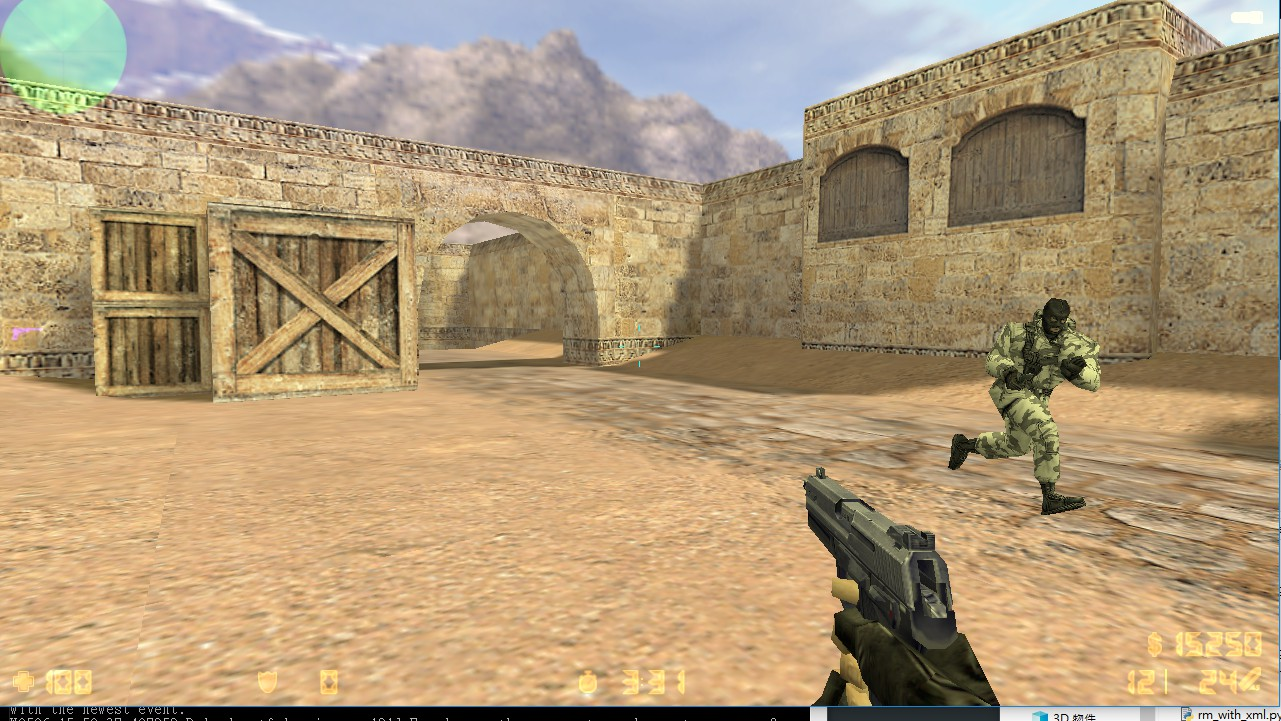person: (933, 294, 1117, 524)
